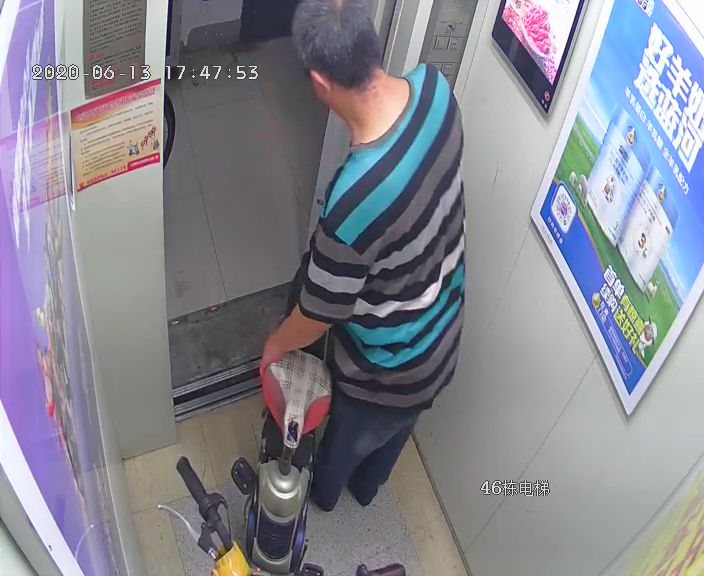Electric-bicycle: (236, 259, 331, 574)
